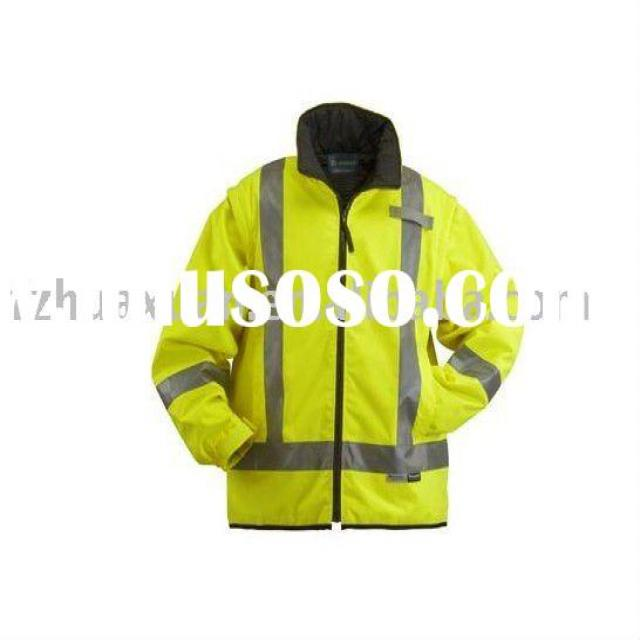Reflective-Jacket: (142, 158, 530, 532)
